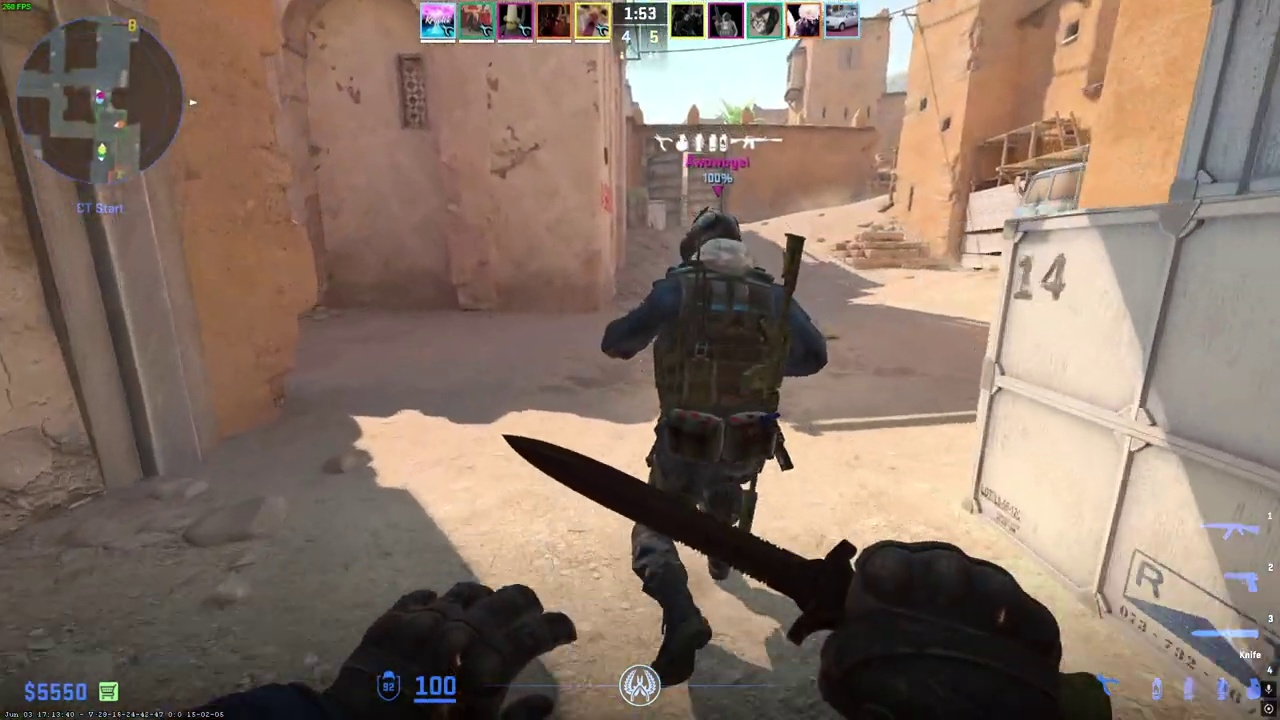CT: (612, 206, 807, 683)
